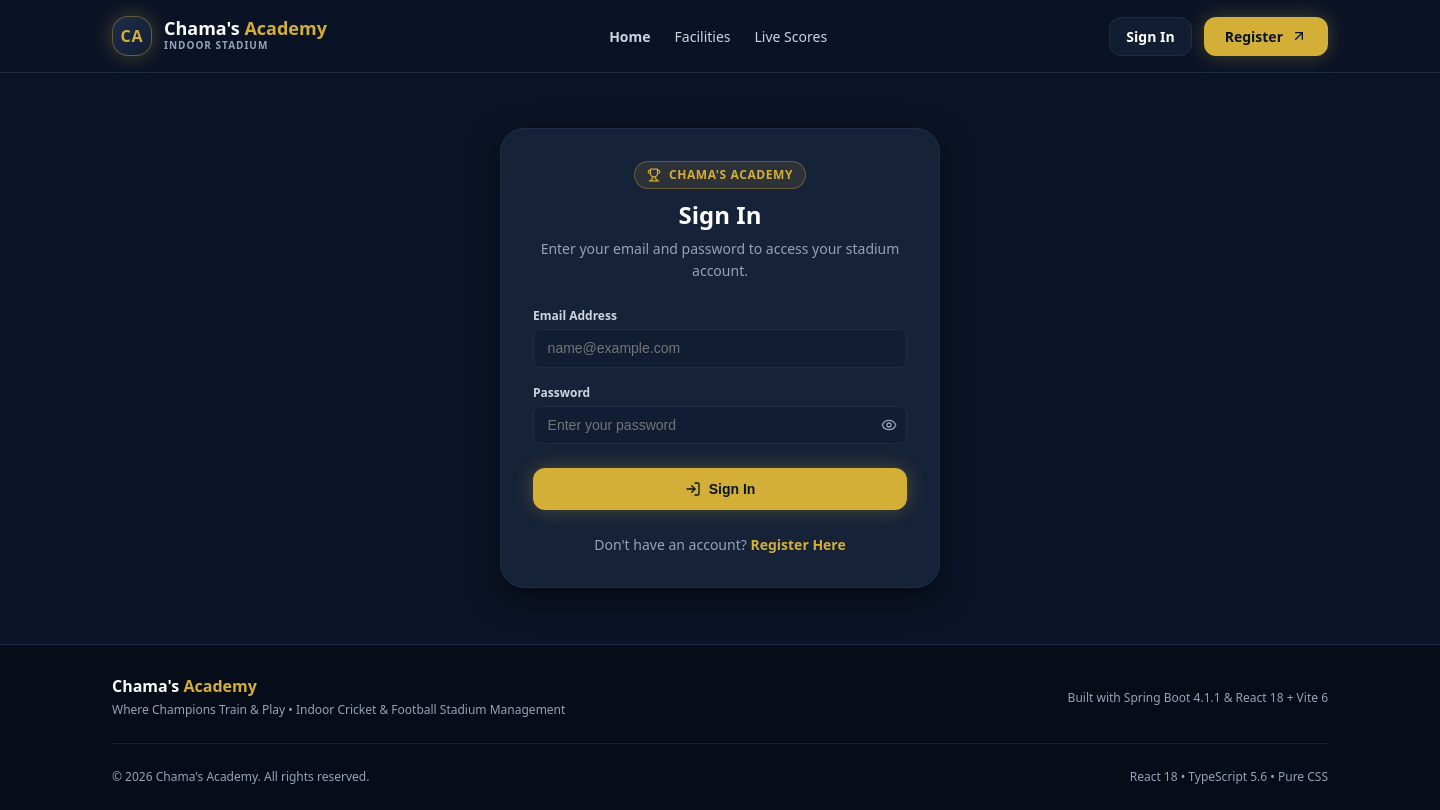
Scenario: Login Page Component and Flow › handles 401 Unauthorized invalid credentials error with clear generic message
The image size is (1440, 810).
Type "player@example.com" into the field labelled "Email Address" at (720, 348), box 533,329 -> 907,368
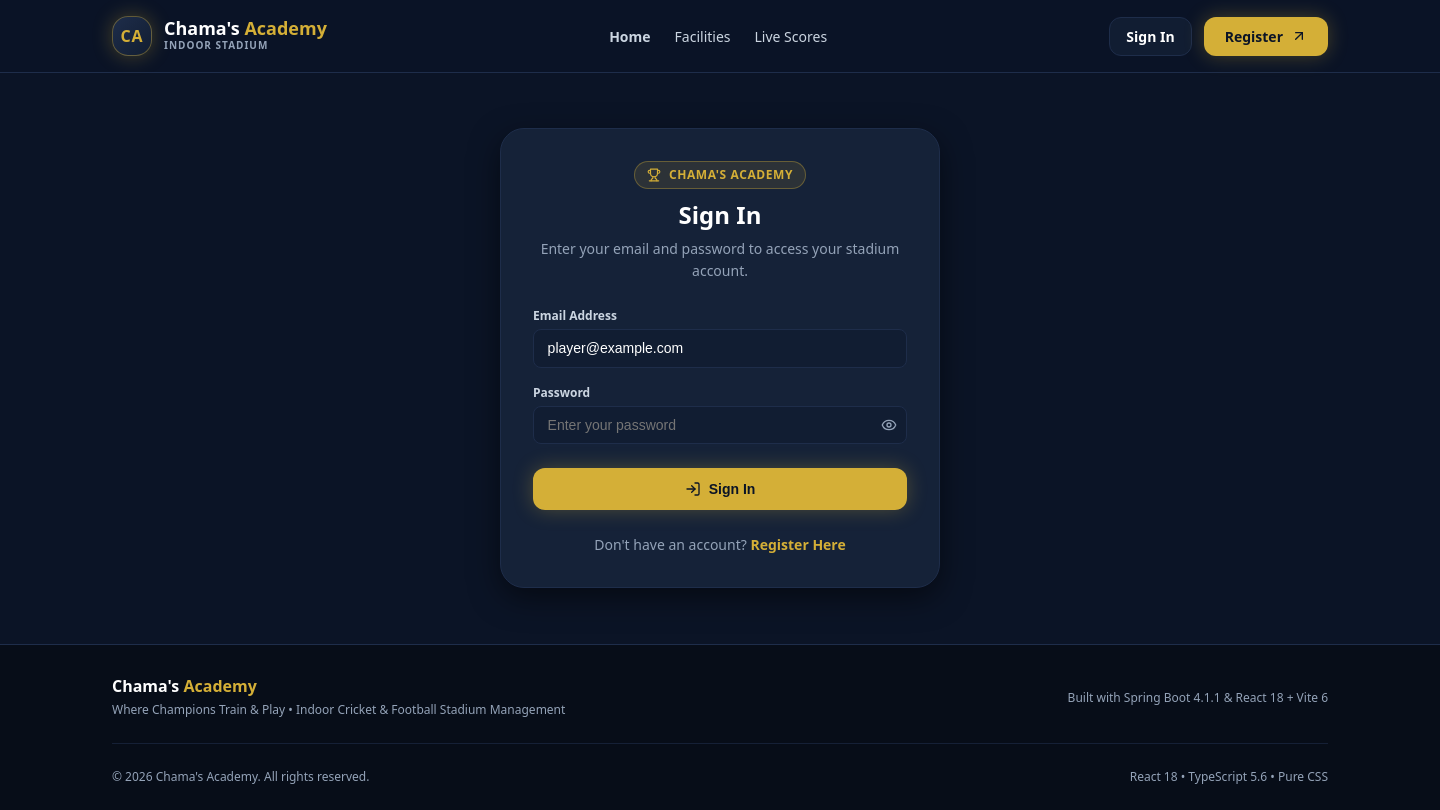
Type "WrongPassword123!" into the password field labelled "Password" at (720, 425), box 533,406 -> 907,444
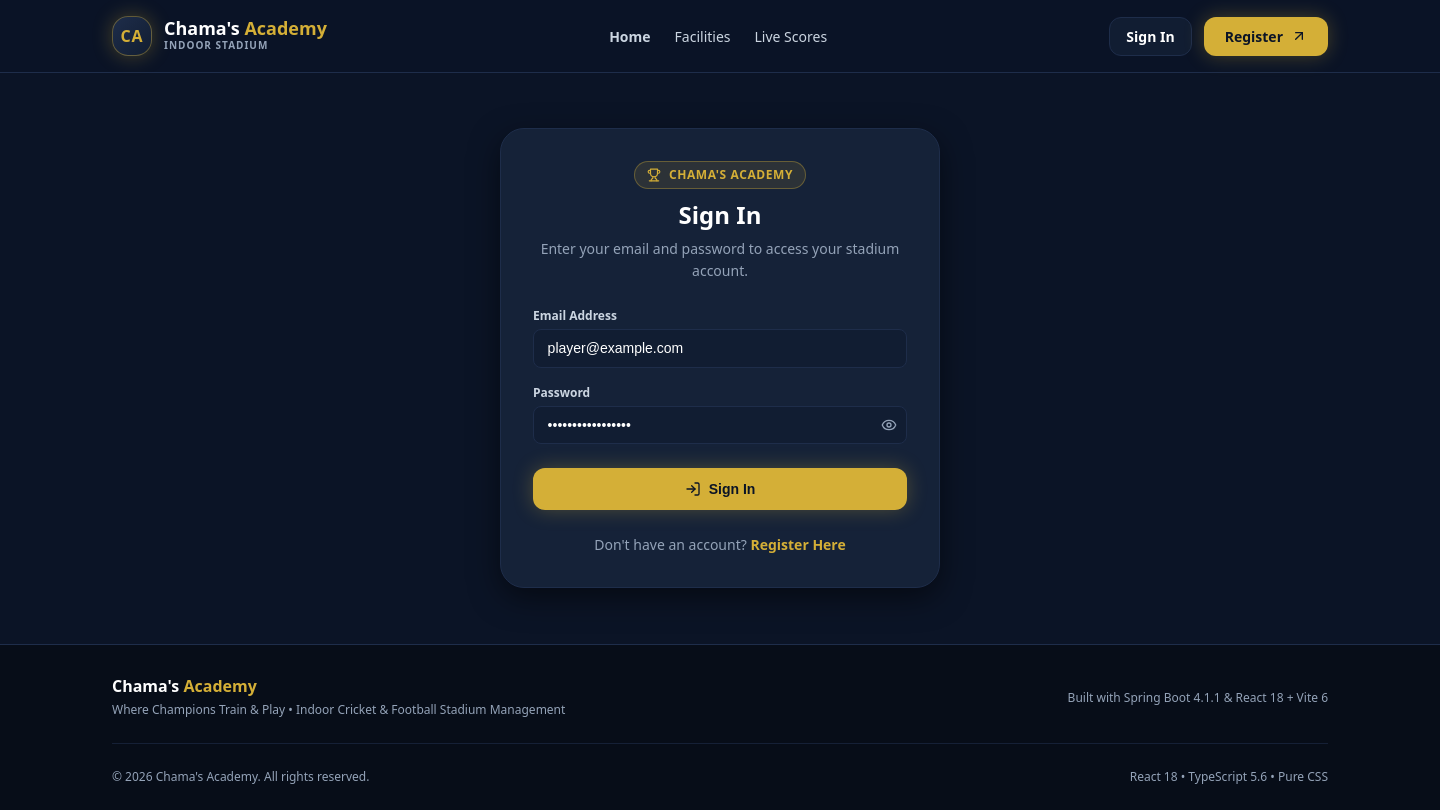
Click the button "Sign In" at (720, 489), box 533,468 -> 907,510
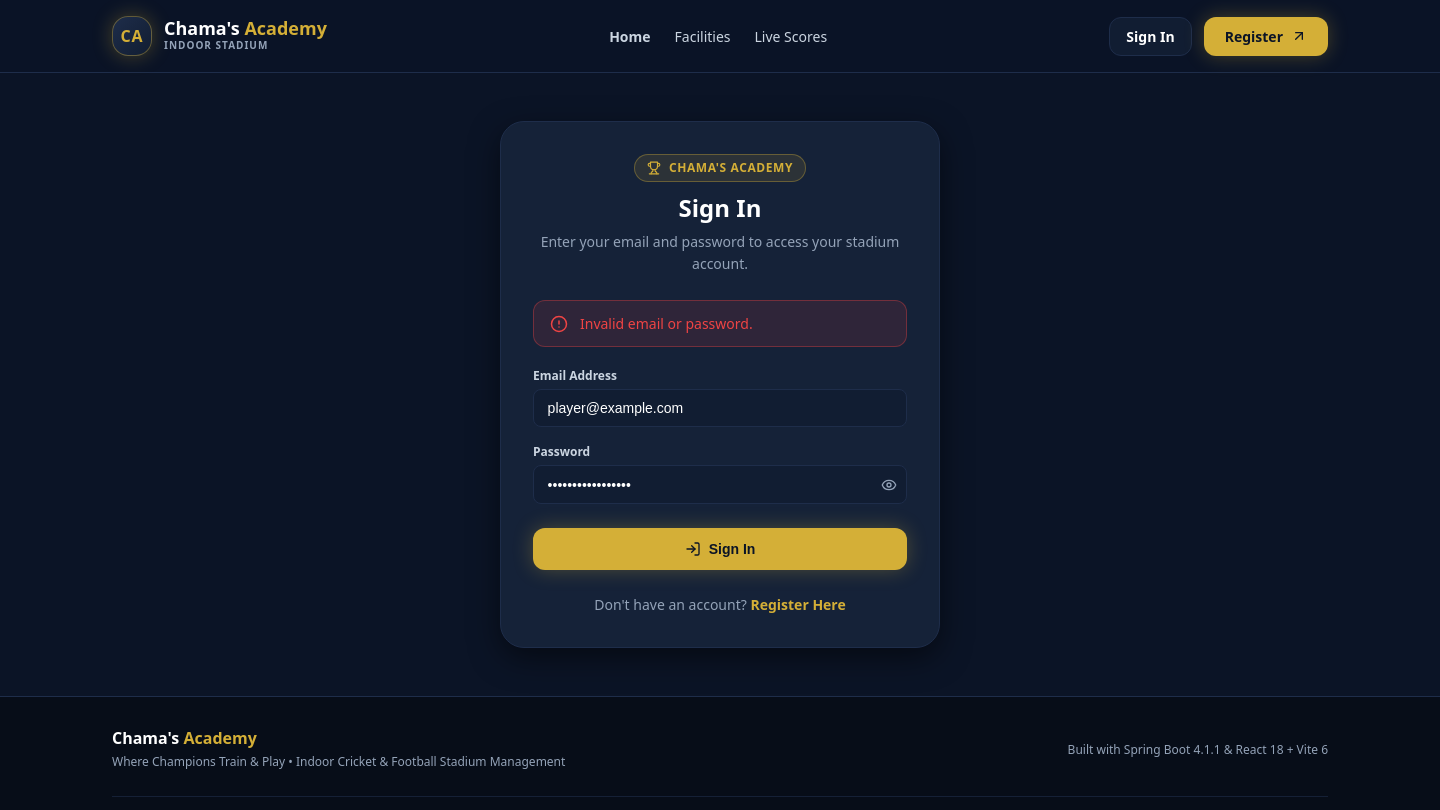
Check: the message "Invalid email or password." is shown, box 533,300 -> 907,347
Check: the text "Invalid email or password." is shown, box 580,313 -> 753,334
